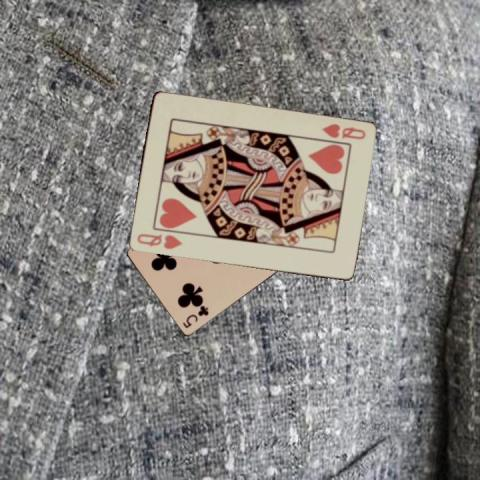5c: (179, 303, 210, 330)
Qh: (134, 231, 184, 251), (318, 121, 366, 141)
